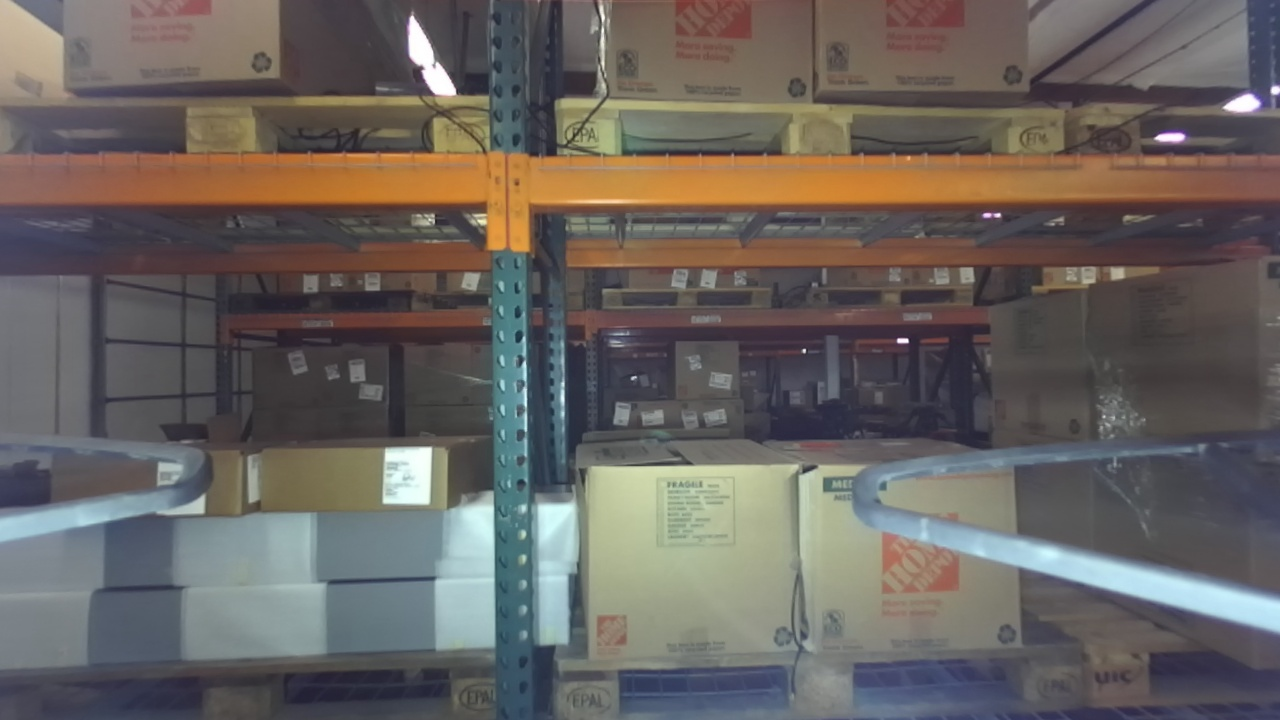box: (773, 418, 1062, 680), (558, 429, 814, 684), (240, 425, 480, 517)
